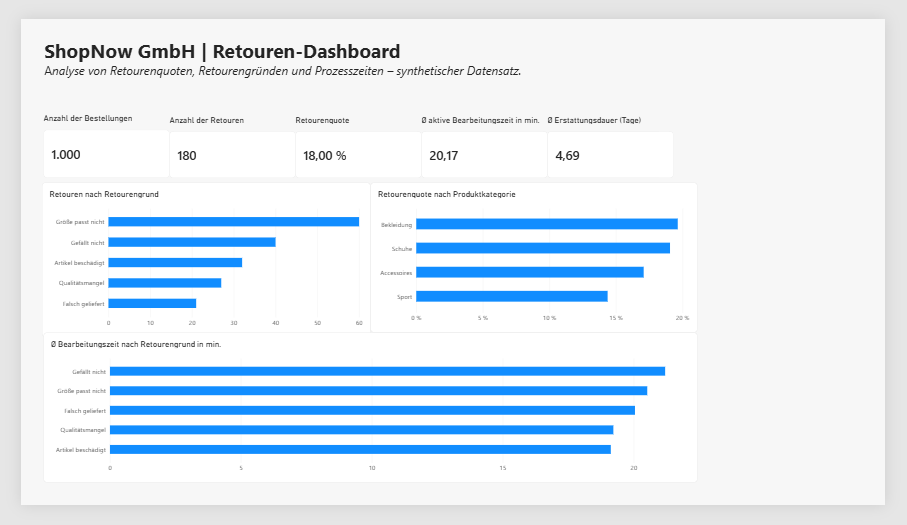

Layout of this report page (visuals, bound fields, positions):
{"tool":"powerbi","page":{"name":"Page 1","canvas":[1920,1080],"ordinal":0},"visuals":[{"type":"cardVisual","title":"Anzahl der Bestellungen","fields":{"Data":["orders.number of orders"]},"box":[48.9,211.1,280,143.3],"z":0},{"type":"cardVisual","title":"Retourenquote","fields":{"Data":["returns.return_rate"]},"box":[608.9,214.4,280,140],"z":1000},{"type":"cardVisual","title":"Anzahl der Retouren","fields":{"Data":["returns.return_count"]},"box":[328.9,214.4,280,140],"z":2000},{"type":"cardVisual","title":"Ø aktive Bearbeitungszeit in min.","fields":{"Data":["return_process.average_process_time"]},"box":[888.9,214.4,280,140],"z":3000},{"type":"clusteredBarChart","title":"Retouren nach Retourengrund","fields":{"Category":["returns.return_reason"],"Y":["CountNonNull(returns.return_id)"]},"box":[46.7,363.3,730,343.3],"z":4000},{"type":"clusteredBarChart","title":"Retourenquote nach Produktkategorie","fields":{"Category":["products.category"],"Y":["returns.return_rate"]},"box":[776.7,363.3,726.7,333.3],"z":5000},{"type":"clusteredBarChart","title":"Ø Bearbeitungszeit nach Retourengrund in min.","fields":{"Category":["returns.return_reason"],"Y":["Avg(return_process.processing_minutes)"]},"box":[50,696.7,1453.3,333.3],"z":6000},{"type":"cardVisual","title":"Ø Erstattungsdauer (Tage)","fields":{"Data":["return_process.average_refund_duration"]},"box":[1170,213.3,280,140],"z":7000},{"type":"textbox","box":[13.3,40,1403.3,120],"z":8000}]}

Visuals, with their boxes in screenshot pixels (x1, y1, x2, y2), scaled from the page's 1920x1080 canvas onto the 907x525 screenshot:
"Anzahl der Bestellungen" cardVisual: 23/103/155/172
"Retourenquote" cardVisual: 288/104/420/172
"Anzahl der Retouren" cardVisual: 155/104/288/172
"Ø aktive Bearbeitungszeit in min." cardVisual: 420/104/552/172
"Retouren nach Retourengrund" clusteredBarChart: 22/177/367/343
"Retourenquote nach Produktkategorie" clusteredBarChart: 367/177/710/339
"Ø Bearbeitungszeit nach Retourengrund in min." clusteredBarChart: 24/339/710/501
"Ø Erstattungsdauer (Tage)" cardVisual: 553/104/685/172
textbox: 6/19/669/78
